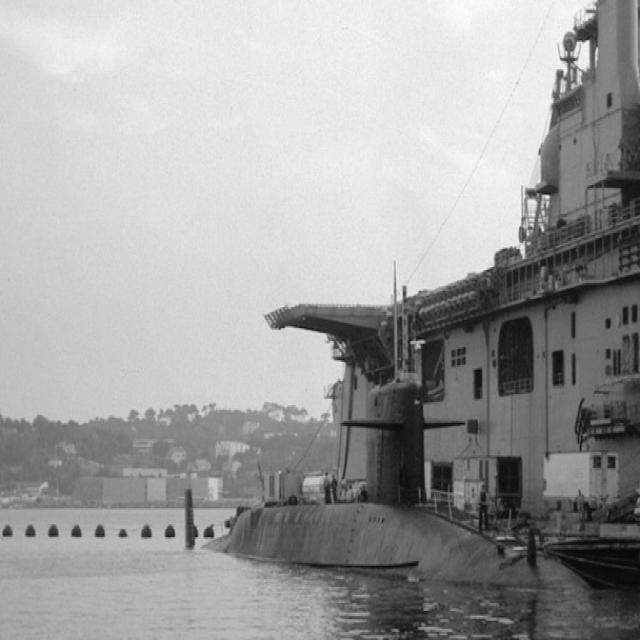submarine: (185, 302, 589, 598)
